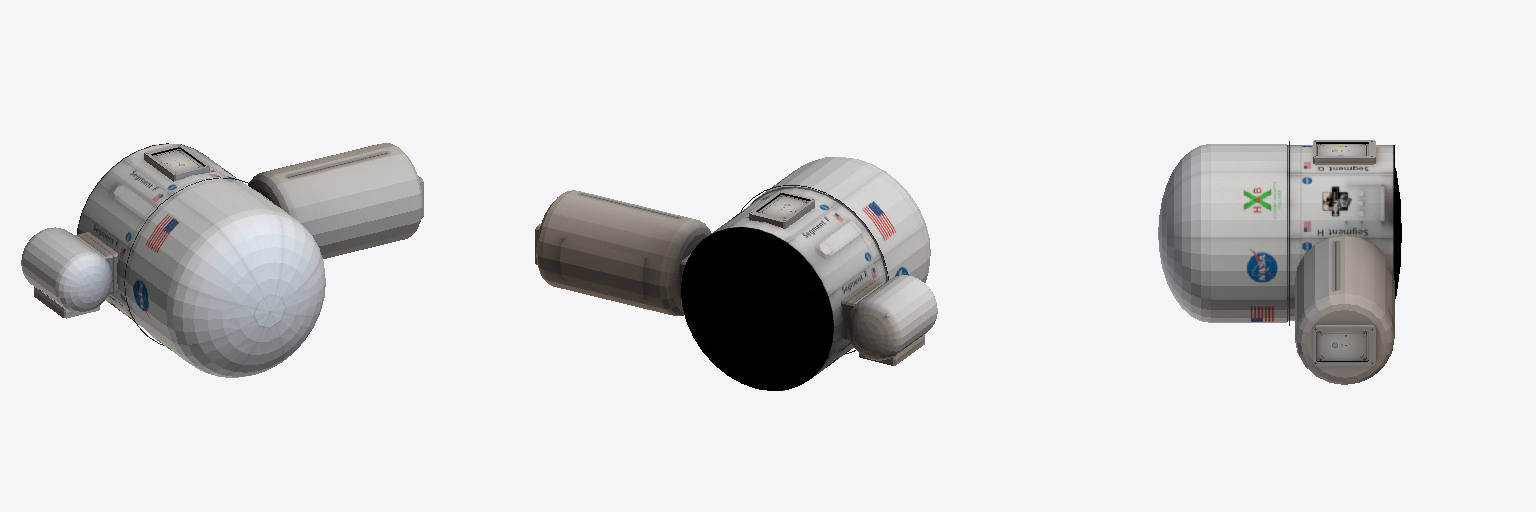
3 renders of one model, left to right at view 1: azimuth 30°, elevation 25°; view 2: azimuth 150°, elevation 25°; view 3: azimuth 270°, elevation 25°, orthographic.
Parts seen in each view (by area): view 1: HDU_Dome_HDU_lowRez_part1.001; view 2: HDU_Dome_HDU_lowRez_part1.001; view 3: HDU_Dome_HDU_lowRez_part1.001.
Part boxes in pixels (x1,y1,x2,y2): HDU_Dome_HDU_lowRez_part1.001: (21,143,423,377); HDU_Dome_HDU_lowRez_part1.001: (535,157,937,390); HDU_Dome_HDU_lowRez_part1.001: (1158,140,1401,384).
Bounding box in the file's own units: 6.1 × 2.66 × 3.49.
1 materials, 1 textured.